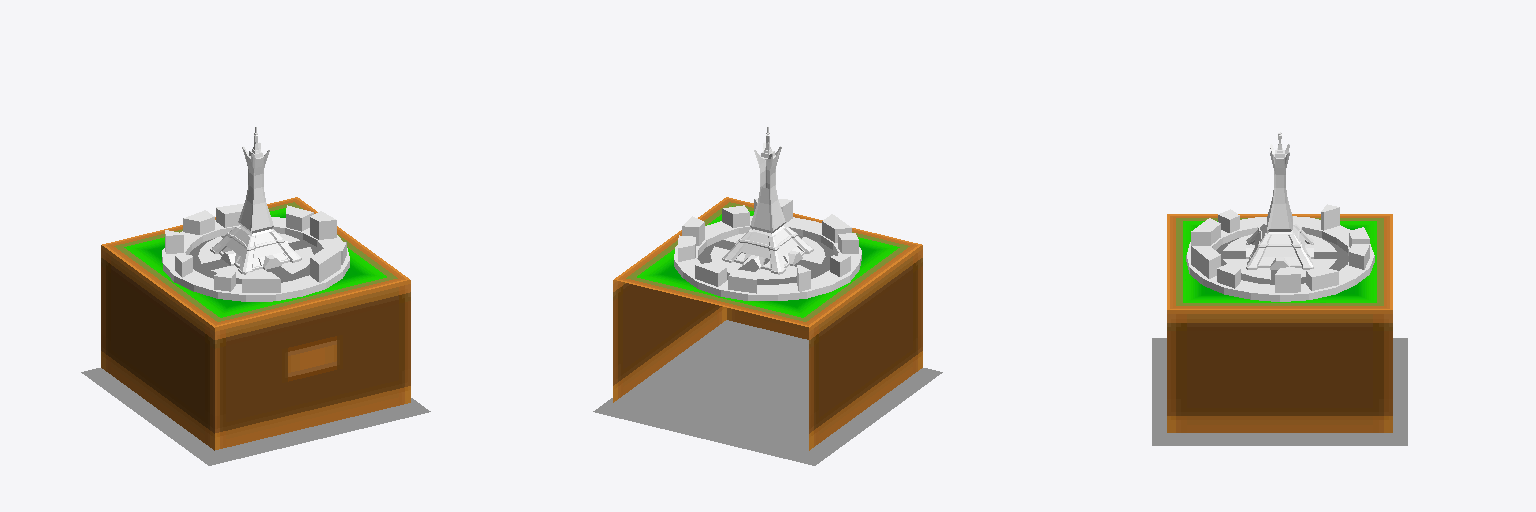
The picture shows the model from 3 angles: view 1: azimuth 30°, elevation 25°; view 2: azimuth 150°, elevation 25°; view 3: azimuth 270°, elevation 25°; orthographic projection.
Parts seen in each view (by area): view 1: polySurface641; view 2: polySurface641; view 3: polySurface641.
Boxes of the visible parts, x1,y1,x2,y2 form: polySurface641: [81, 127, 430, 465]; polySurface641: [593, 127, 942, 465]; polySurface641: [1152, 132, 1407, 445].
Bounding box in the file's own units: 2.11 × 2.48 × 2.11.
Materials: 2 (1 with a texture image).